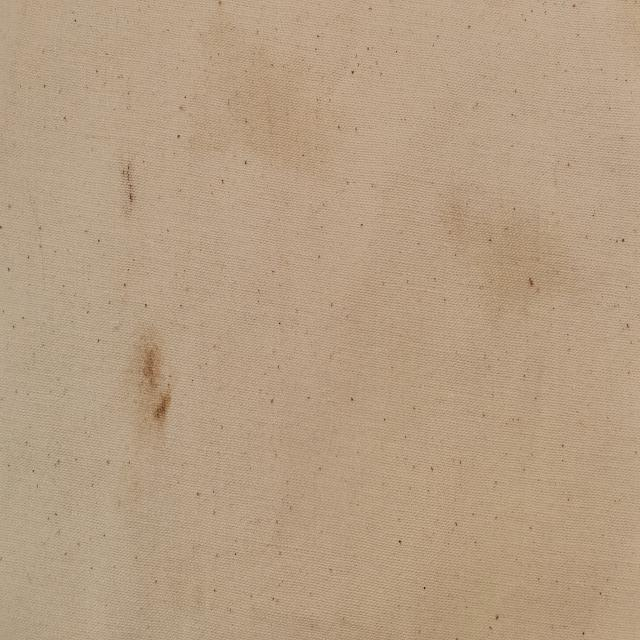taaaches: (122, 320, 180, 448), (115, 147, 141, 226)
